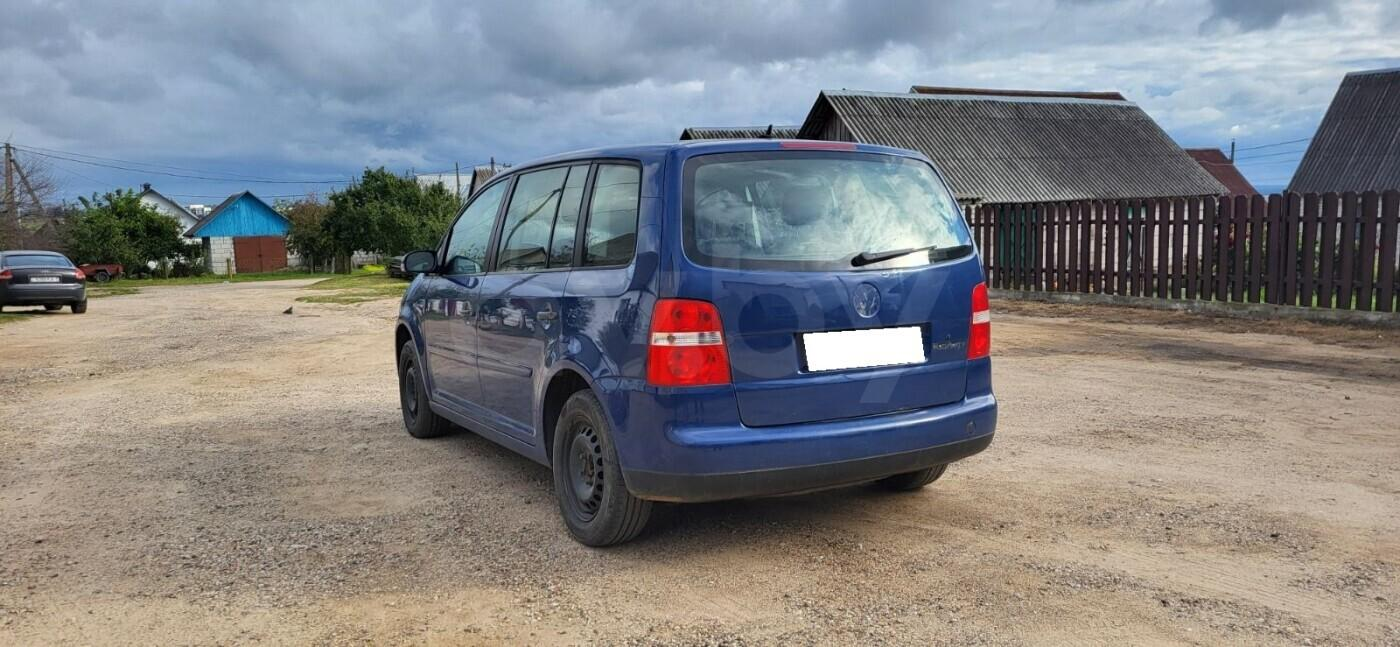Touran_2003-2006: (391, 136, 1002, 548)
